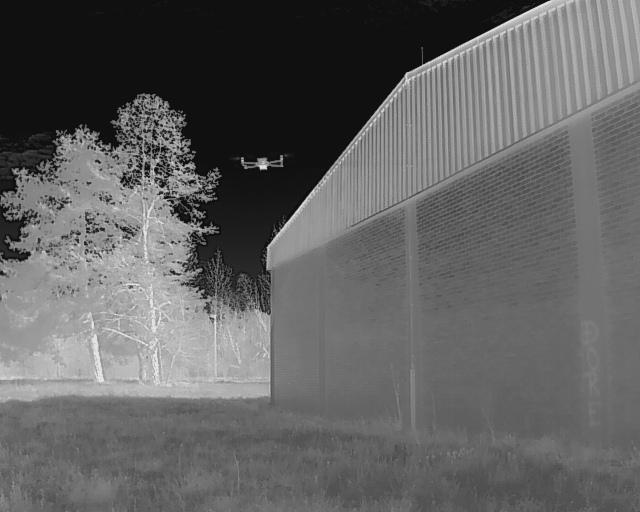drone: (227, 148, 298, 179)
